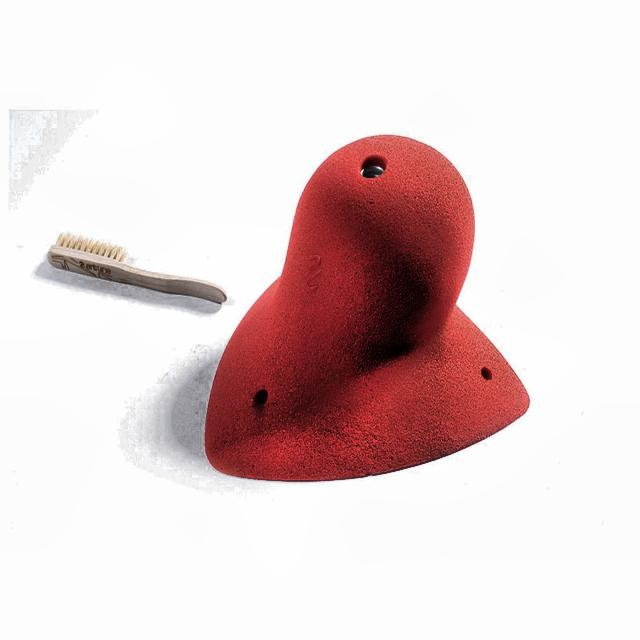Hold: (201, 125, 543, 476)
